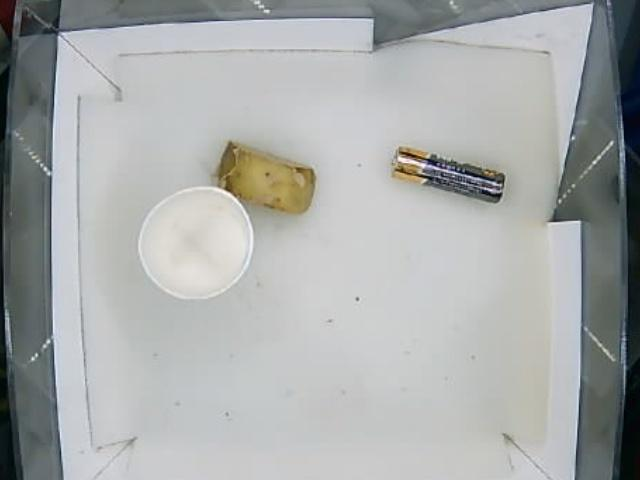Battery: (388, 144, 508, 202)
Cup: (135, 184, 256, 302)
Potato: (210, 144, 318, 215)
